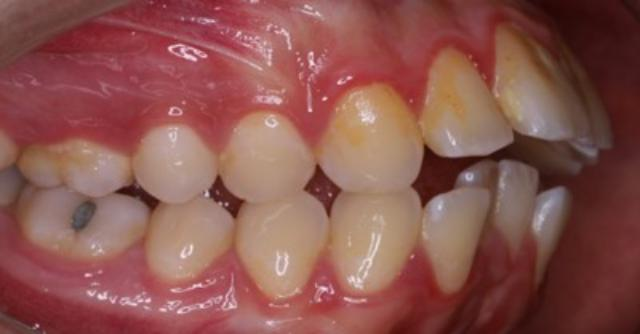canine class II 1/2: (233, 81, 424, 307)
molar class I: (16, 132, 144, 266)
